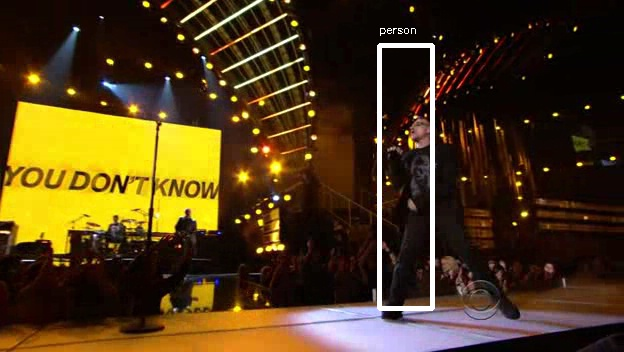person: (392, 120, 457, 227), (389, 120, 454, 227), (395, 120, 460, 227), (392, 117, 457, 224), (392, 123, 457, 230)
target_negative: (113, 23, 330, 329), (25, 99, 205, 159), (190, 228, 507, 251), (161, 134, 276, 193), (43, 325, 321, 334), (618, 249, 624, 297)
